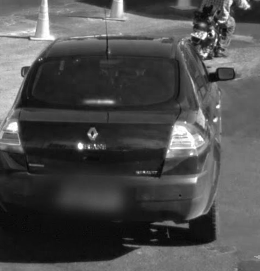car: (1, 33, 239, 241)
